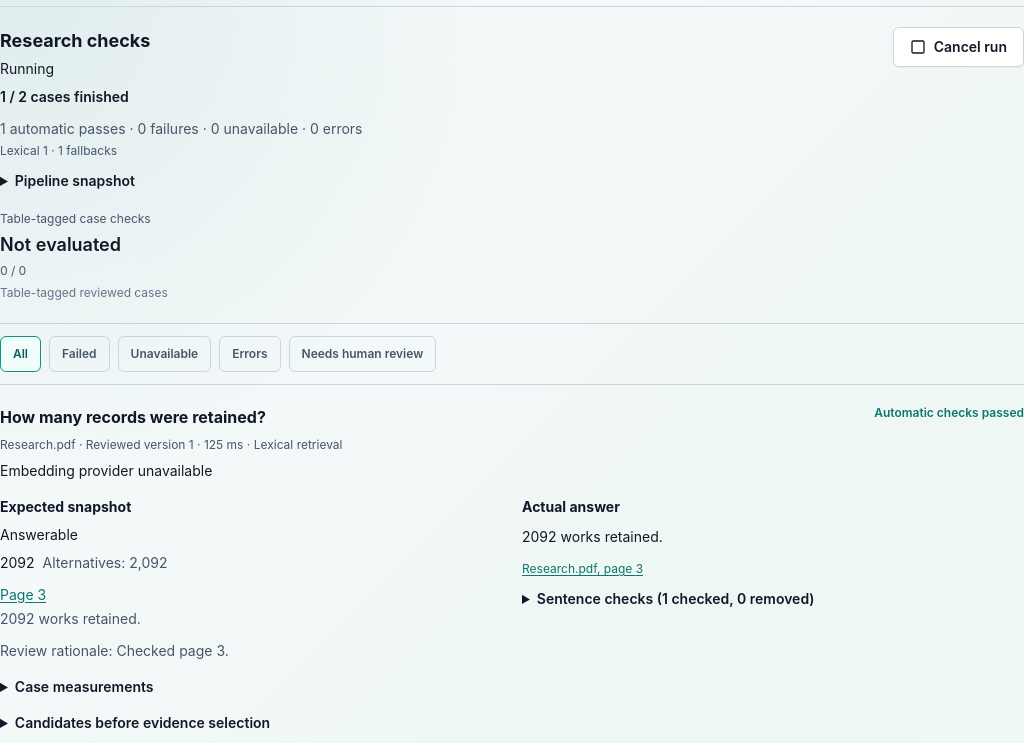
Test case: BenchmarkRunResults › filters errors, unavailable sources and pending human review independently
The width and height of the screenshot is (1024, 743).
Click the button "Errors" at x=250, y=354, box 219,336 -> 280,372
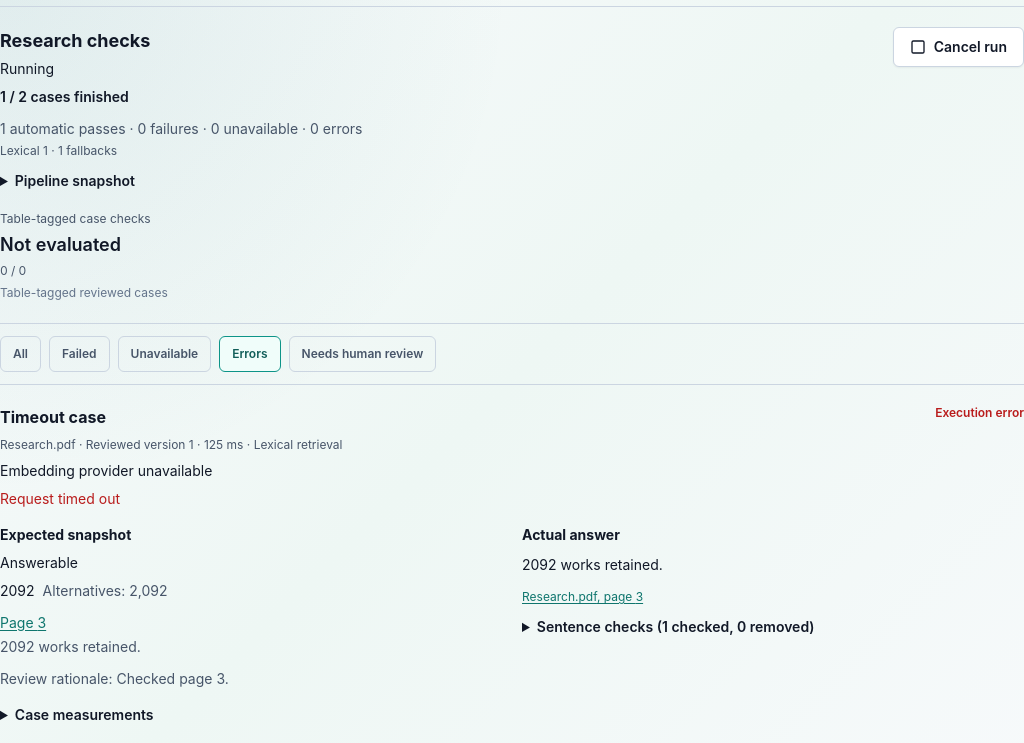
expect the heading "Timeout case" is shown: met, box 0,407 -> 106,427
expect the text "Missing file case" is not shown: met
Click the button "Unavailable" at x=164, y=354, box 118,336 -> 211,372
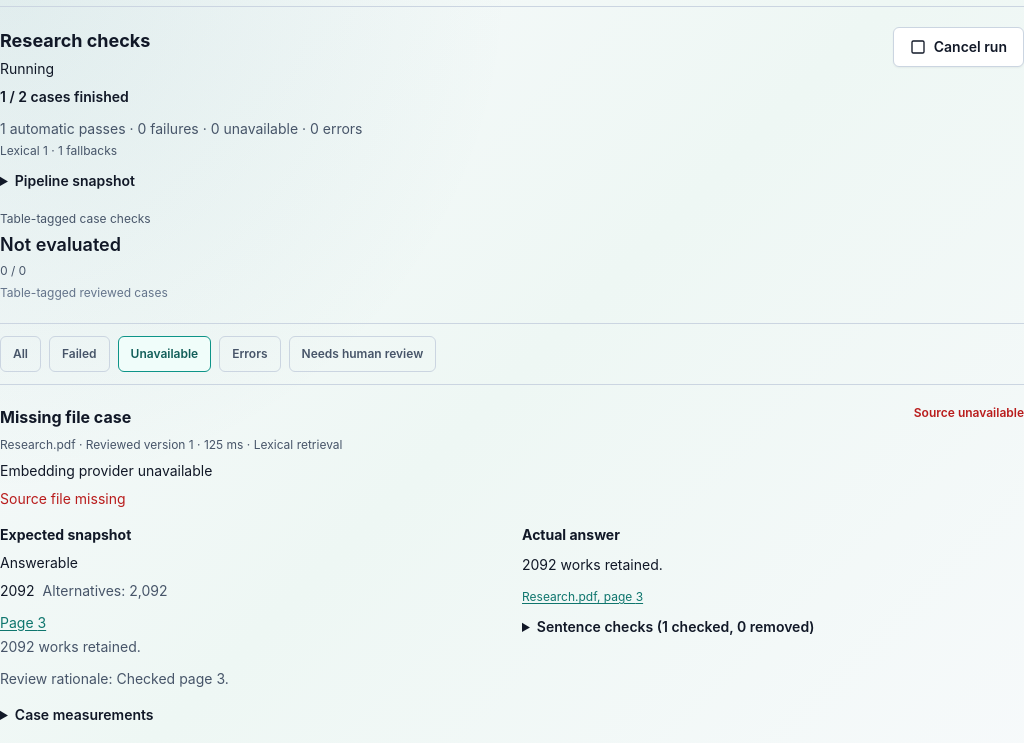
expect the heading "Missing file case" is shown: met, box 0,407 -> 131,427
Click the button "Needs human review" at x=362, y=354, box 288,336 -> 436,372
(page scrolled)
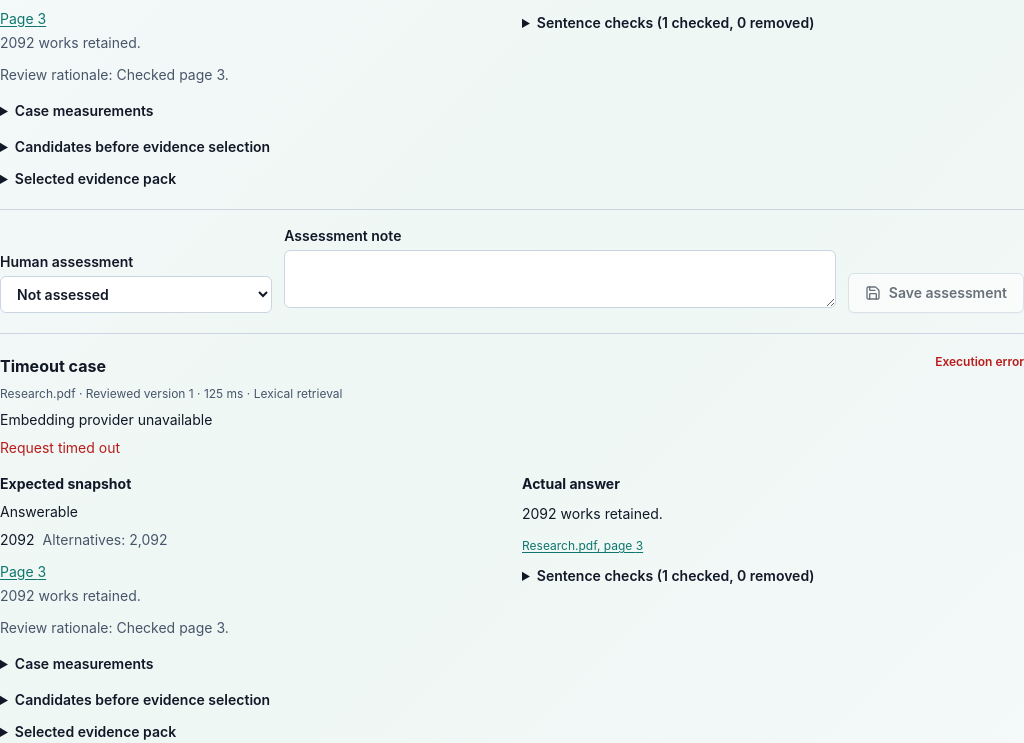
expect the heading "Timeout case" is shown: met, box 0,356 -> 106,376
